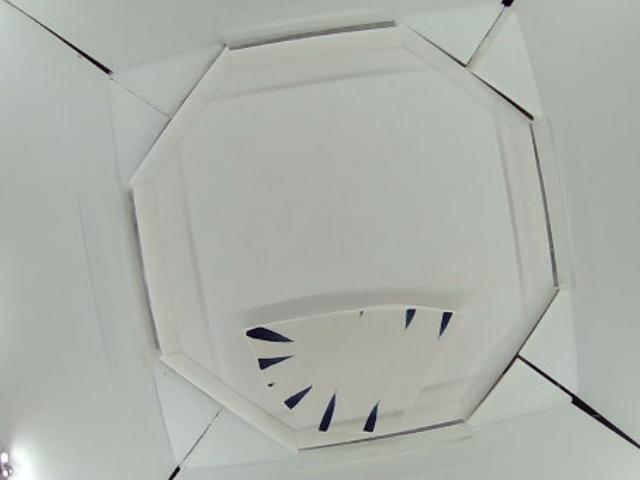China: (247, 304, 466, 435)
